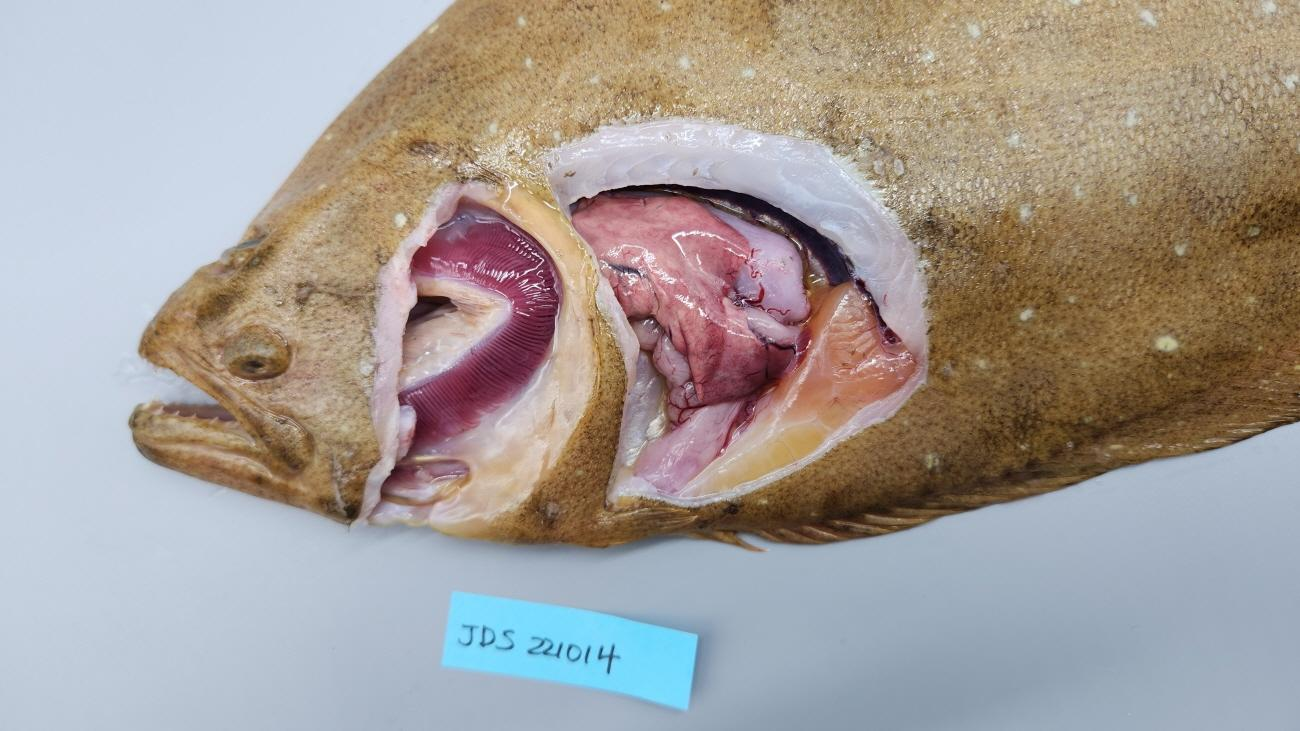POGIN: (398, 207, 563, 446)
POLIN: (573, 192, 797, 405)
